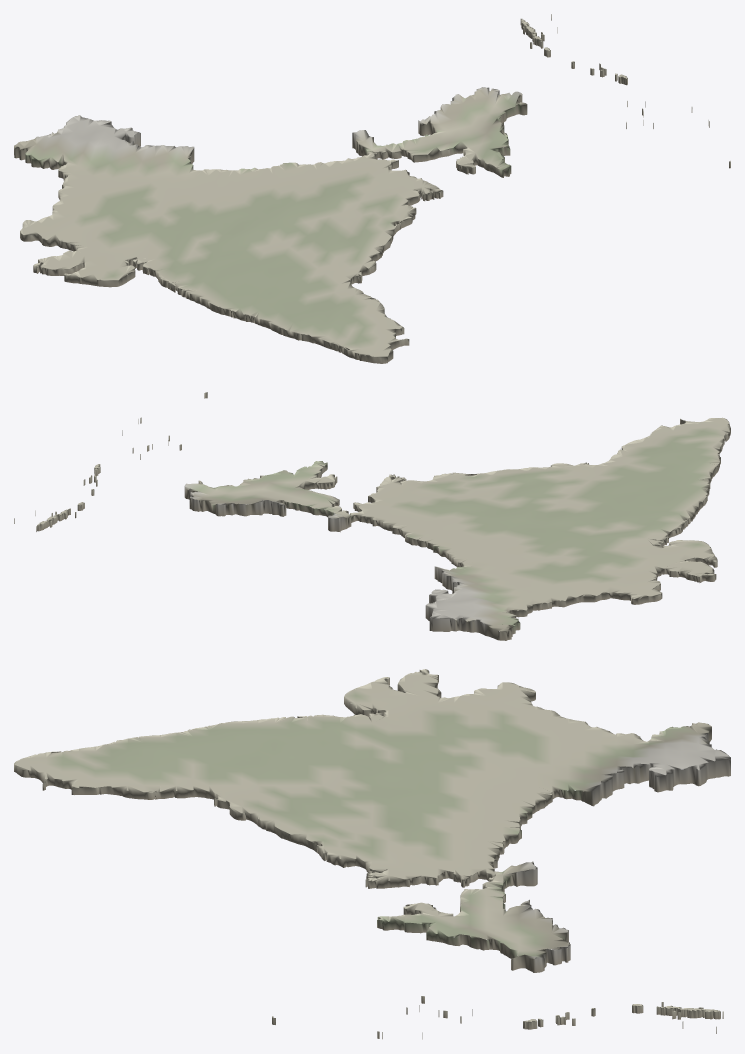
File: in-mobile.glb
3 renders of one model, top to bottom at view 1: azimuth 30°, elevation 25°; view 2: azimuth 150°, elevation 25°; view 3: azimuth 270°, elevation 25°, orthographic. The views are drawn at different scales.
Size of the model in its own units: 120 by 2.72 by 99.98.
